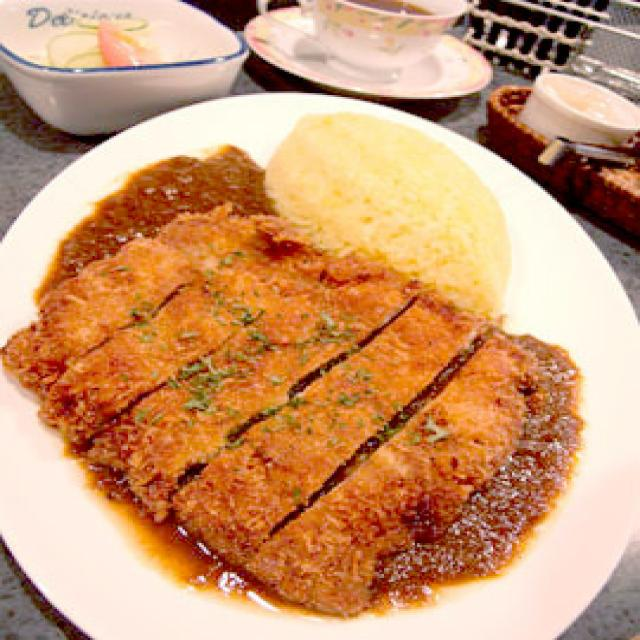猪肉菜式: (0, 83, 640, 640)
